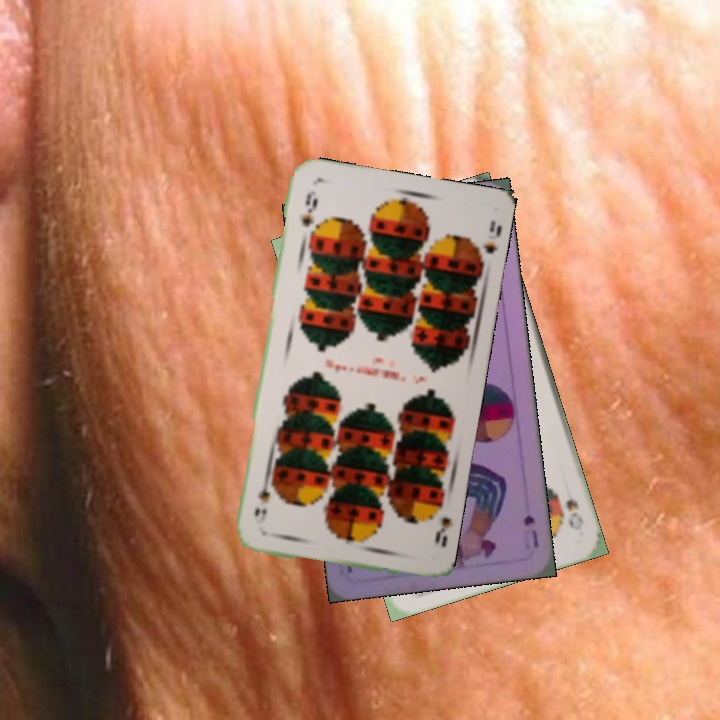S9: (426, 498, 454, 550), (297, 186, 320, 229)
SO: (552, 486, 586, 533)
SU: (520, 510, 541, 551)
